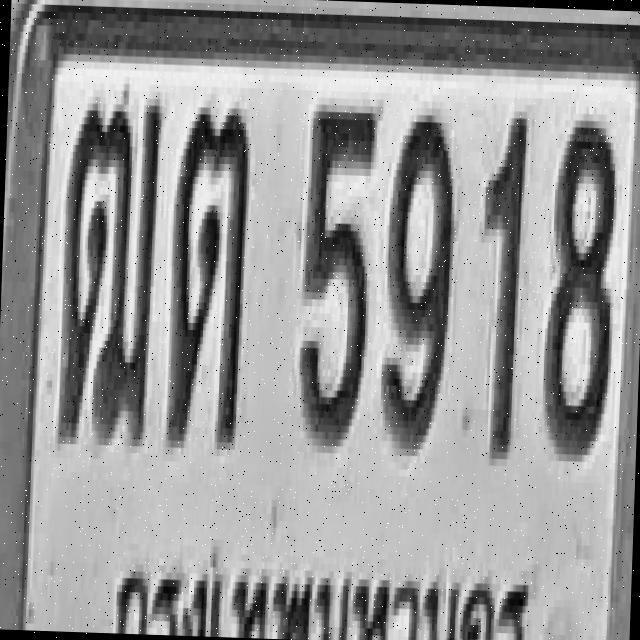1: (474, 110, 526, 460)
27ThorPhuThao: (55, 96, 162, 447)
30TorTao: (164, 103, 250, 446)
5: (294, 100, 376, 450)
8: (542, 112, 618, 456)
9: (378, 107, 458, 450)
